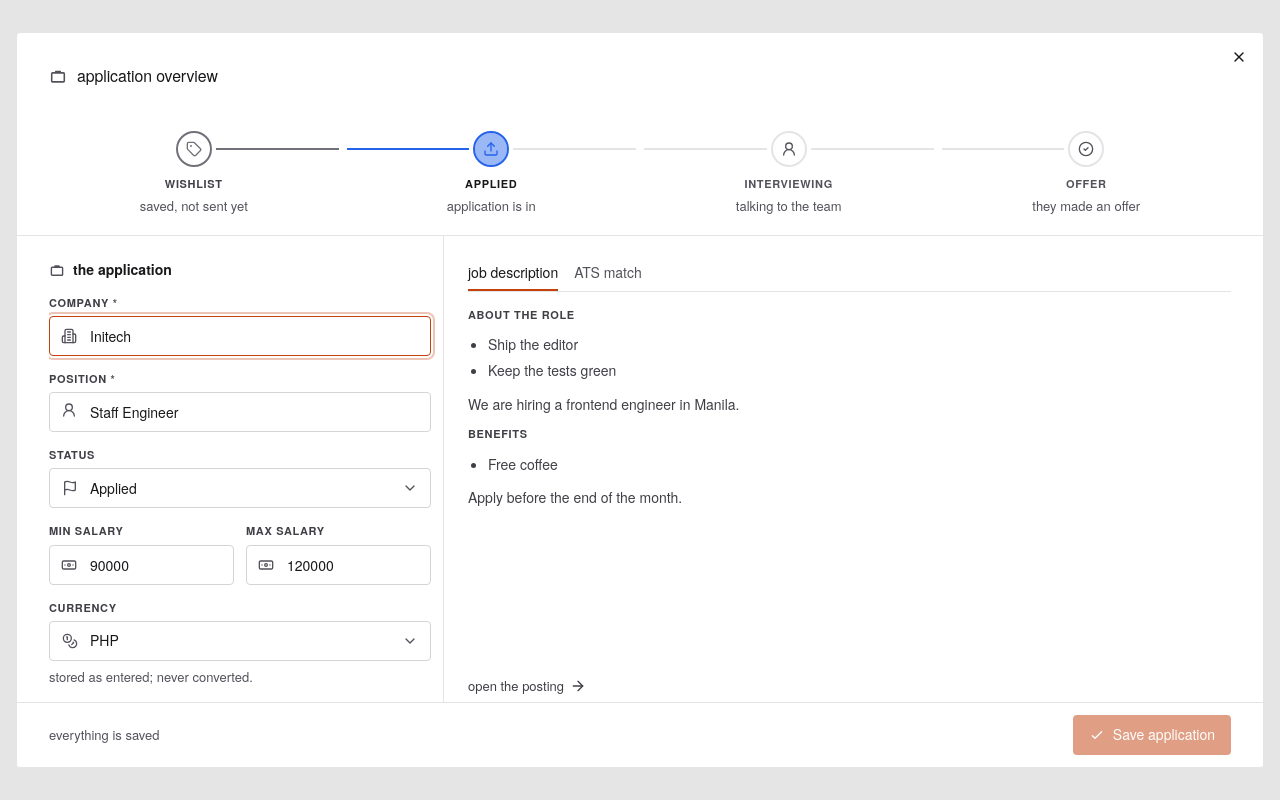
Test: reading the whole posting › replaces the record with the full posting, and keeps the record mounted
Expected: the heading "About the role" is shown, [468,308,575,322]
What coordinates should you click on to do the following:
click the button "open the posting"
I would click on:
 (527, 686)
Its box is [468,670,586,702].
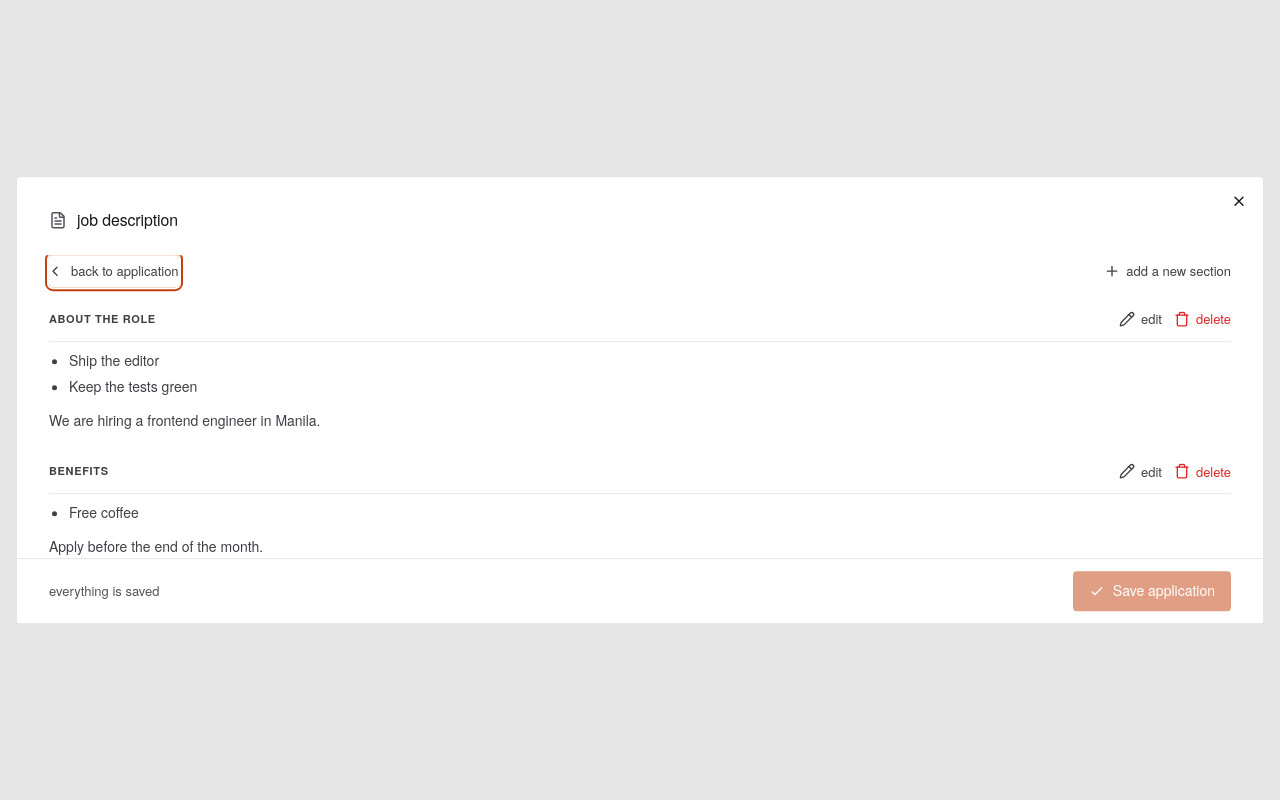
Expected: the heading "job description" is shown, [77,209,178,231]
Expected: the heading "application overview" is gone
Expected: the label labelled "company" is gone
